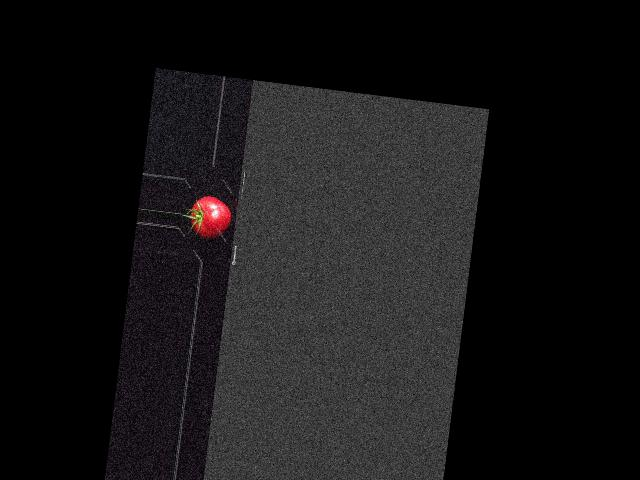tomato: (188, 194, 233, 241)
